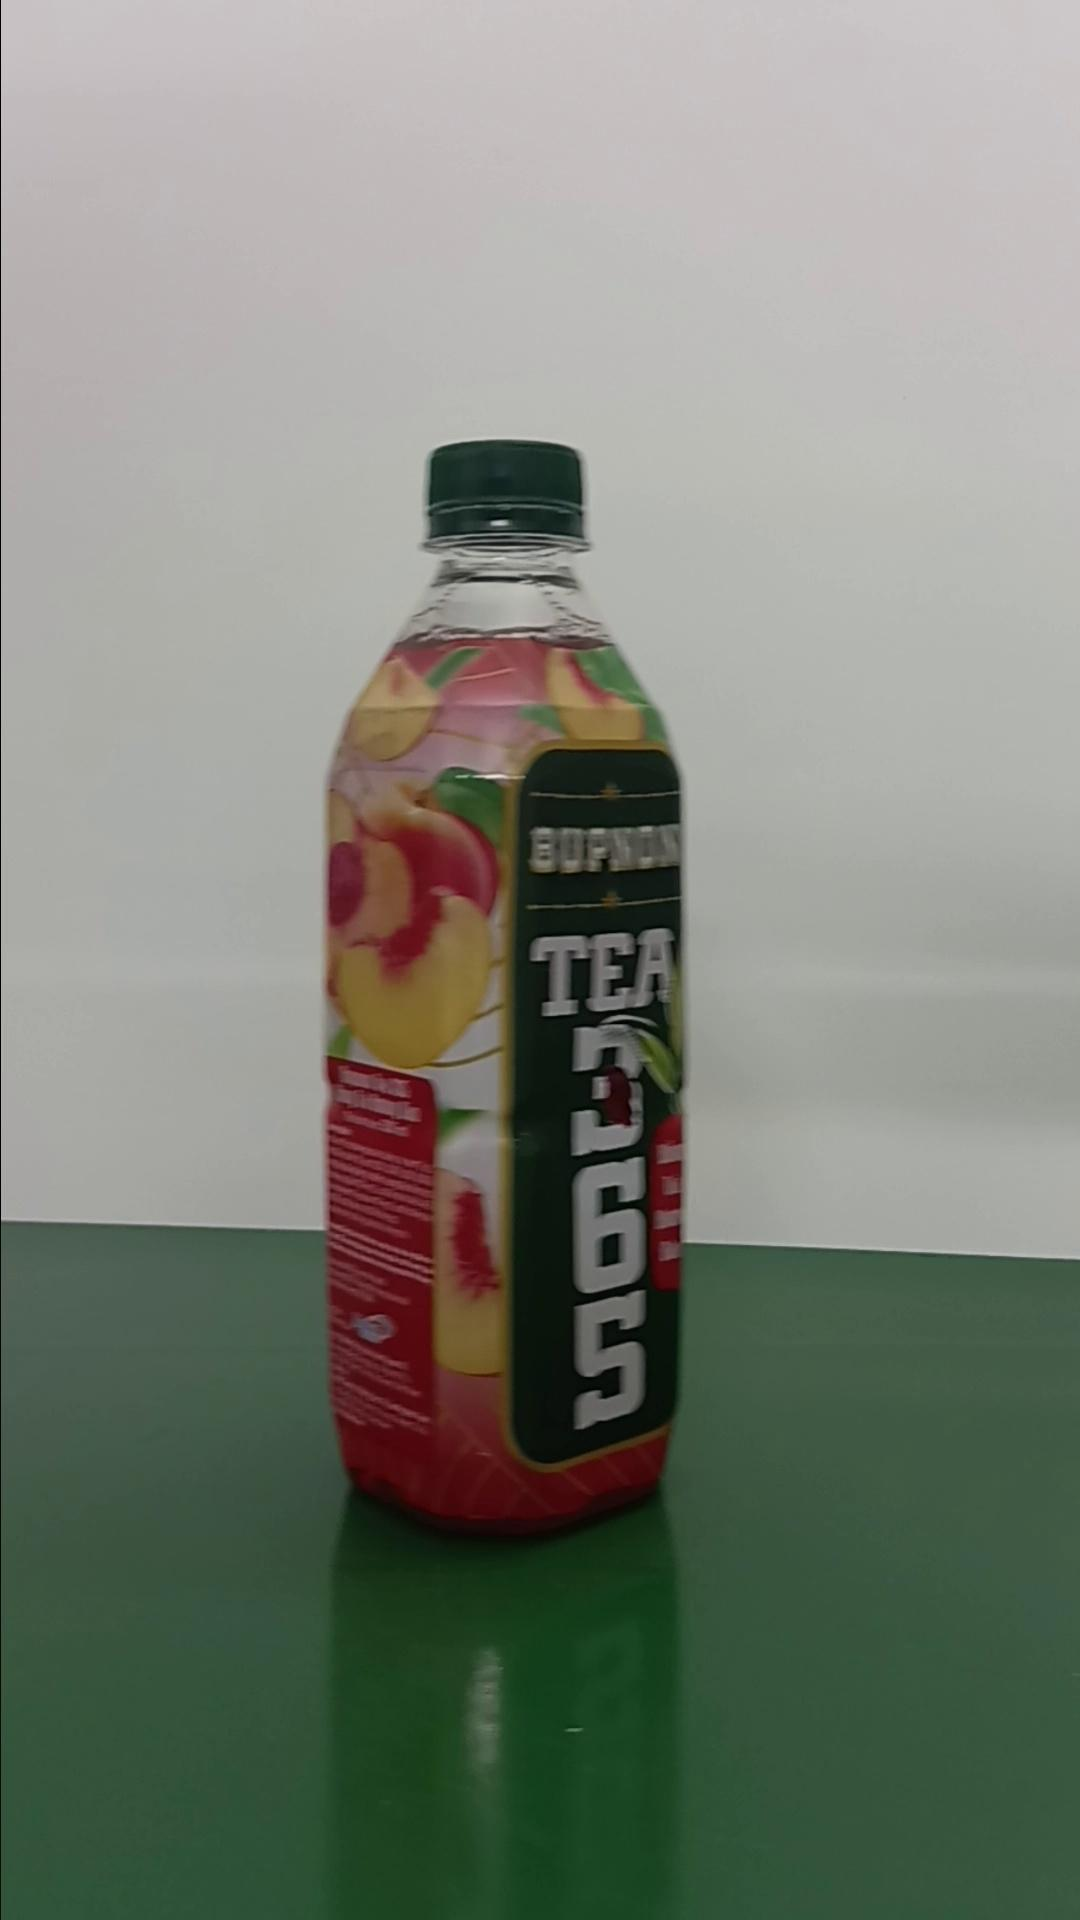loi rach va lap chai: (320, 430, 684, 1552)
